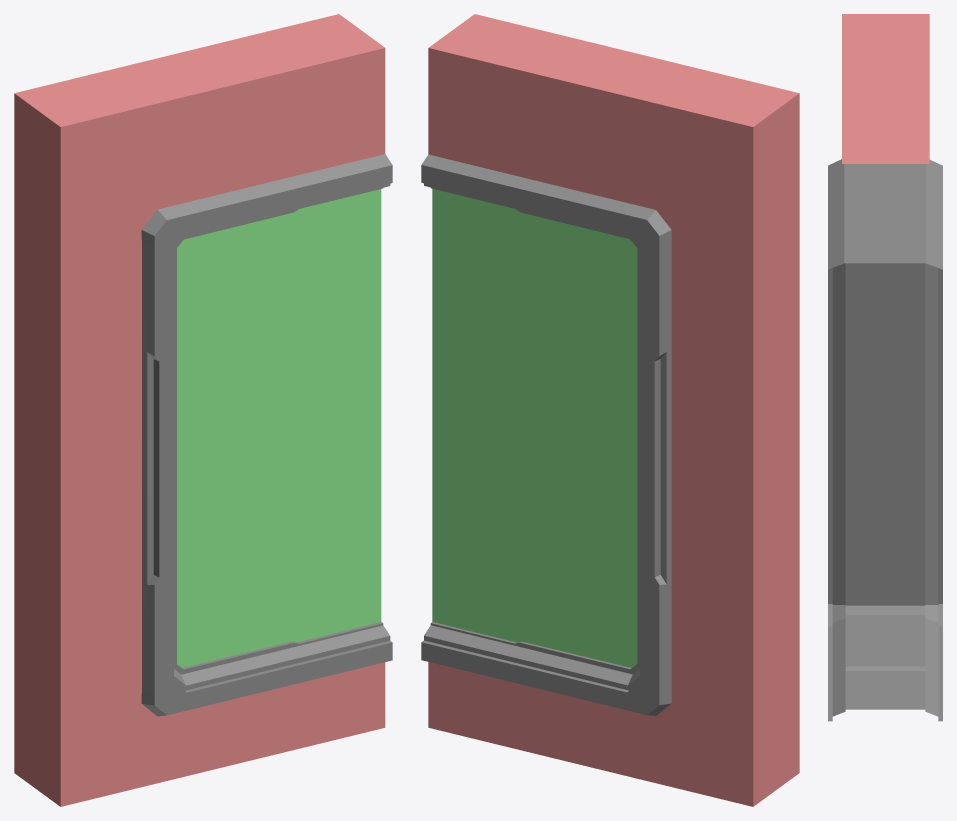
The model's file is S_Envi_Common_Wall_05c.gltf.
3 renders of one model, left to right at view 1: azimuth 30°, elevation 25°; view 2: azimuth 150°, elevation 25°; view 3: azimuth 270°, elevation 25°, orthographic. The views are drawn at different scales.
Parts seen in each view (by area): view 1: S_Envi_Common_Wall_05c; view 2: S_Envi_Common_Wall_05c; view 3: S_Envi_Common_Wall_05c.
Part boxes in pixels (<box>): S_Envi_Common_Wall_05c: <box>14,14,392,806</box>; S_Envi_Common_Wall_05c: <box>421,14,799,806</box>; S_Envi_Common_Wall_05c: <box>828,14,942,721</box>.
Bounding box in the file's own units: 2 × 4 × 0.647.
